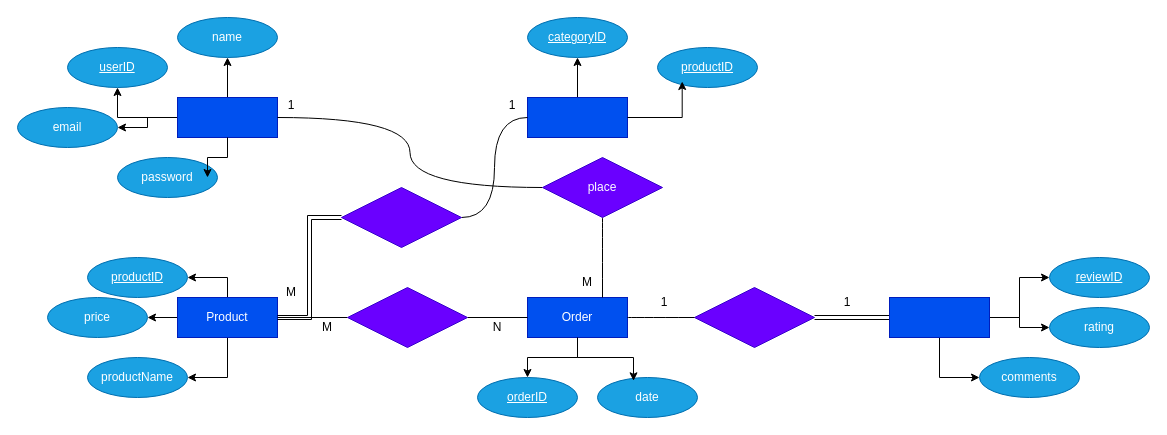
Some shapes in this 1167 by 435 pixel diagram are drawn without their labels. The centre of each missing label's shape, as x and y in pixels:
Category: point 577,117
contain: point 407,317
has: point 401,217
have: point 754,317
Review: point 939,317
User: point 227,117
